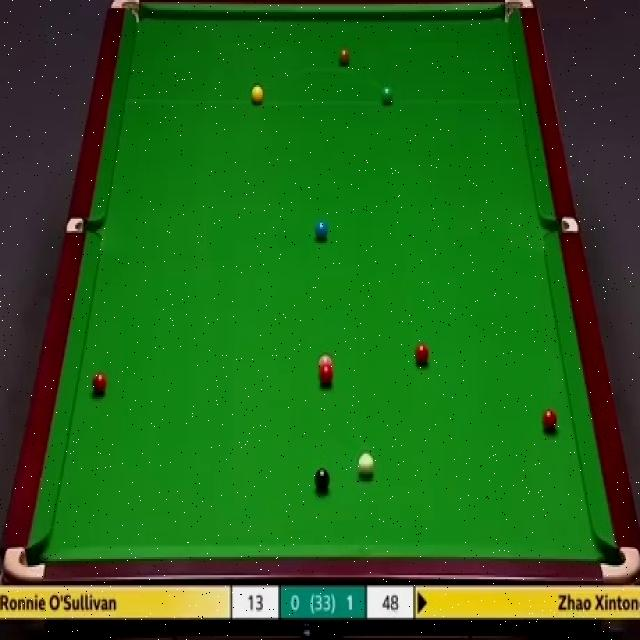black-ball: (314, 465, 330, 492)
blue-ball: (315, 219, 329, 241)
brown-ball: (338, 48, 350, 68)
green-ball: (380, 85, 393, 105)
pink-ball: (317, 354, 333, 369)
red-ball: (92, 370, 108, 397), (414, 342, 429, 367), (542, 410, 558, 433), (318, 366, 334, 387)
white-ball: (357, 451, 374, 477)
yellow-ball: (253, 87, 265, 106)
